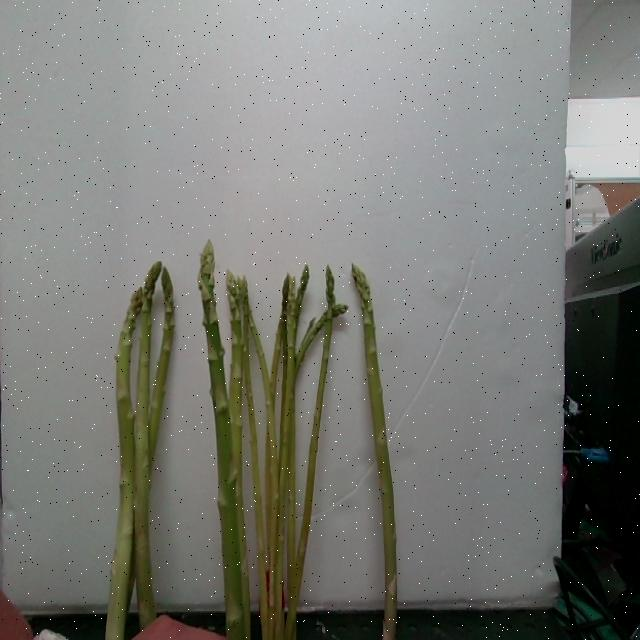aspargus: (198, 242, 248, 640), (351, 265, 398, 640), (104, 285, 141, 640)
